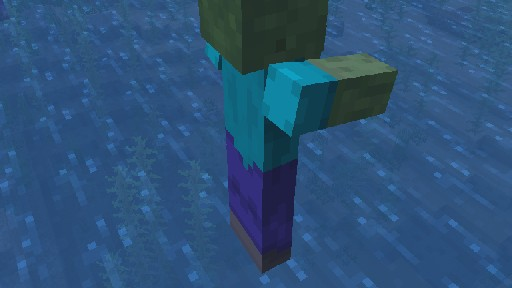zombie: (192, 0, 398, 273)
